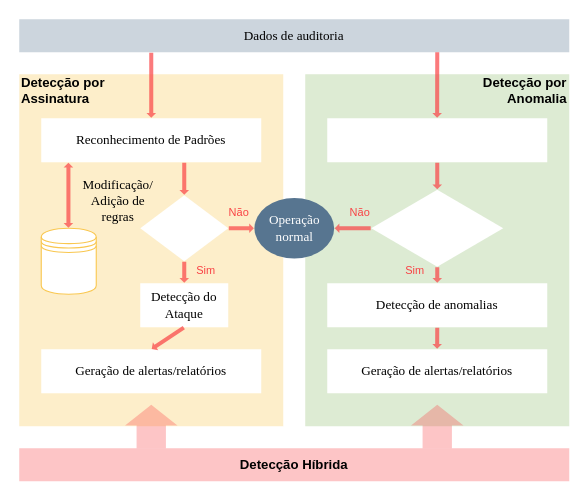
Image size: 587x499. Some labels were removed from this diagram. Each missing label, with the centre of its shape:
"Base de regras" belongs at (x=68, y=260).
"Desviam estatisticamente?" belongs at (x=437, y=227).
"Geração do perfil da atividade" belongs at (x=437, y=140).
"Regra combina?" belongs at (x=184, y=228).
